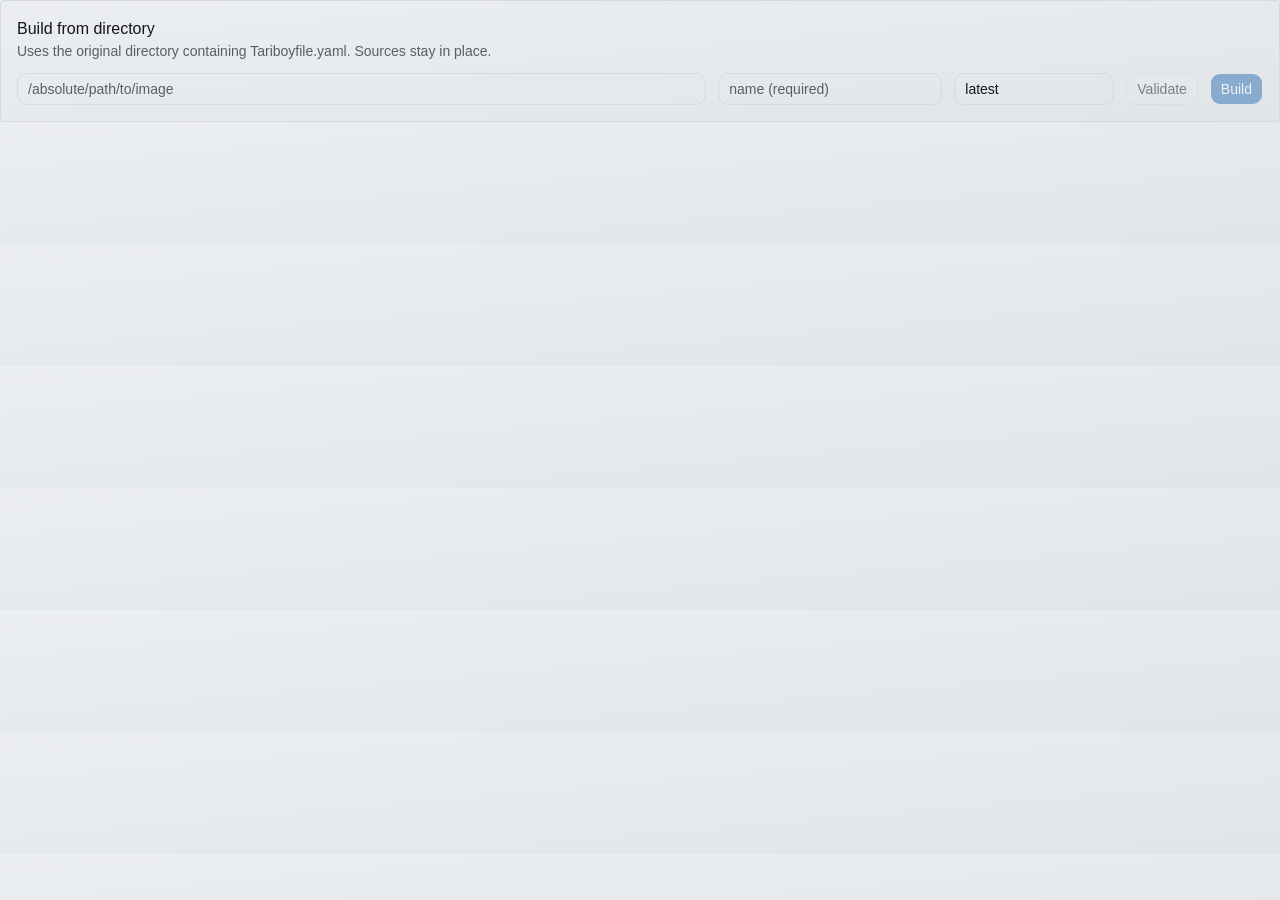
Test: dismisses validation diagnostics and the resolved template
Type "/srv/images/reviewer" into the field named "Image source directory".
click(362, 89); type("/srv/images/reviewer")  # box left=17, top=73, right=706, bottom=105
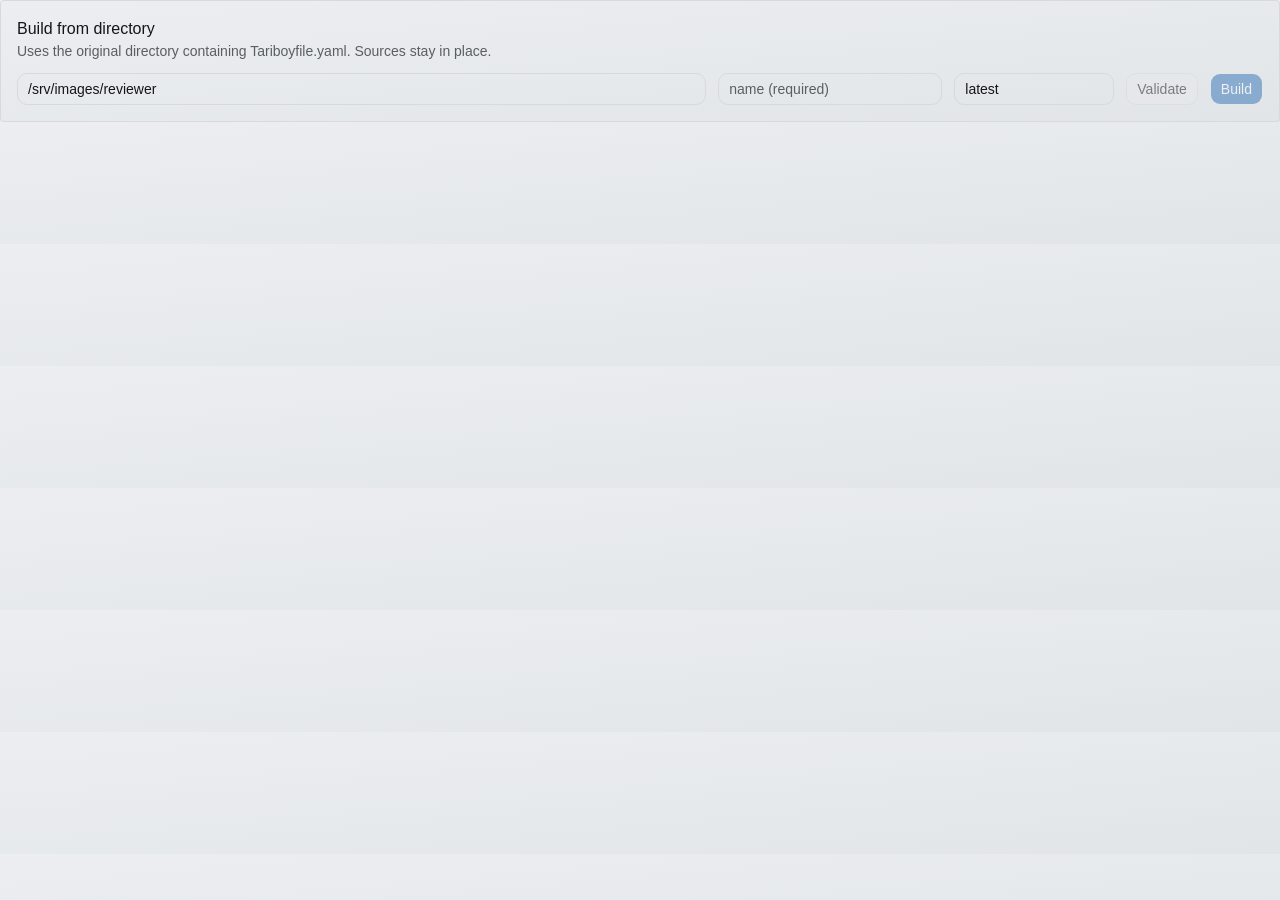
Type "reviewer" into the field named "Image name".
click(830, 89); type("reviewer")  # box left=718, top=73, right=942, bottom=105
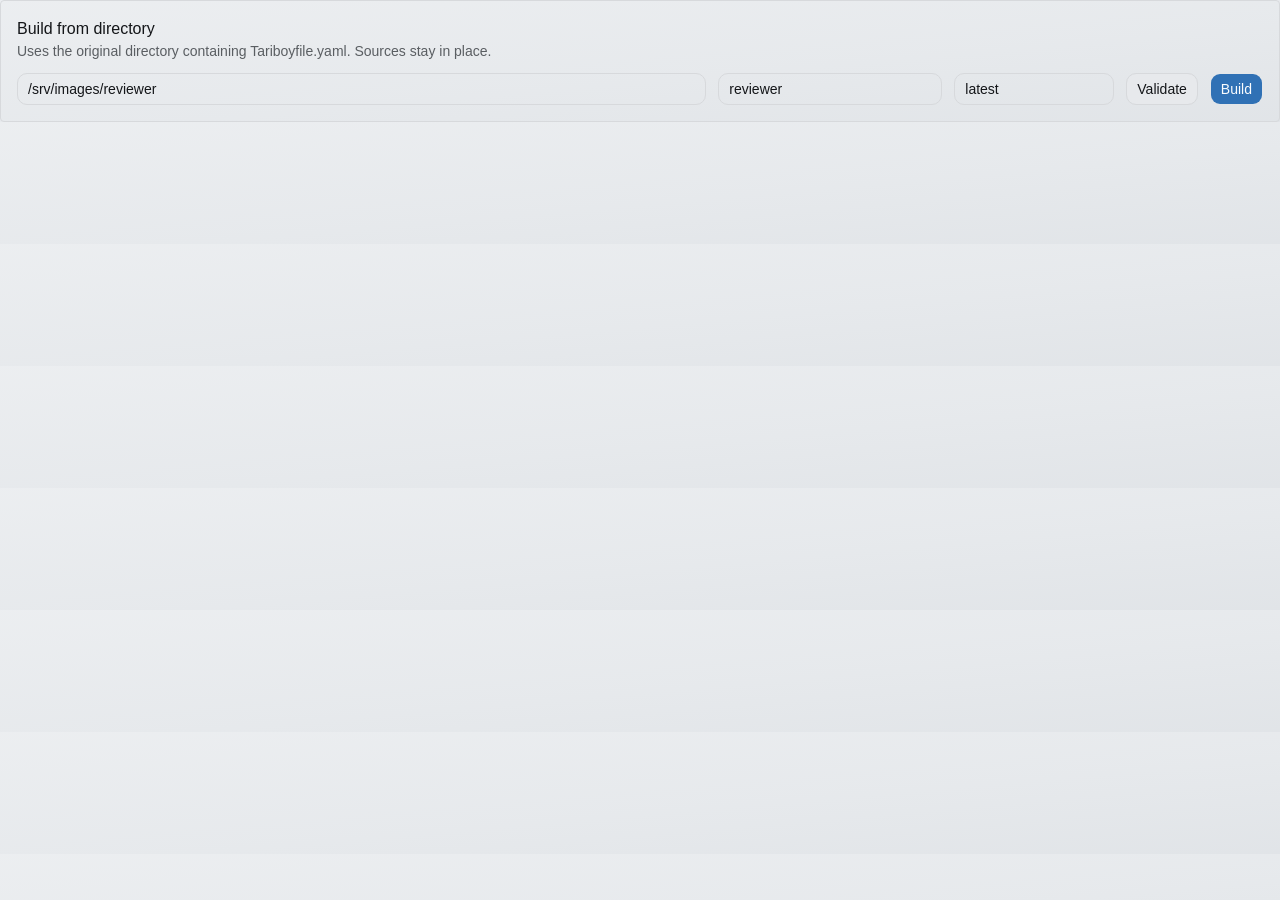
Click the button "Validate".
click(1162, 89)  # box left=1126, top=73, right=1198, bottom=105
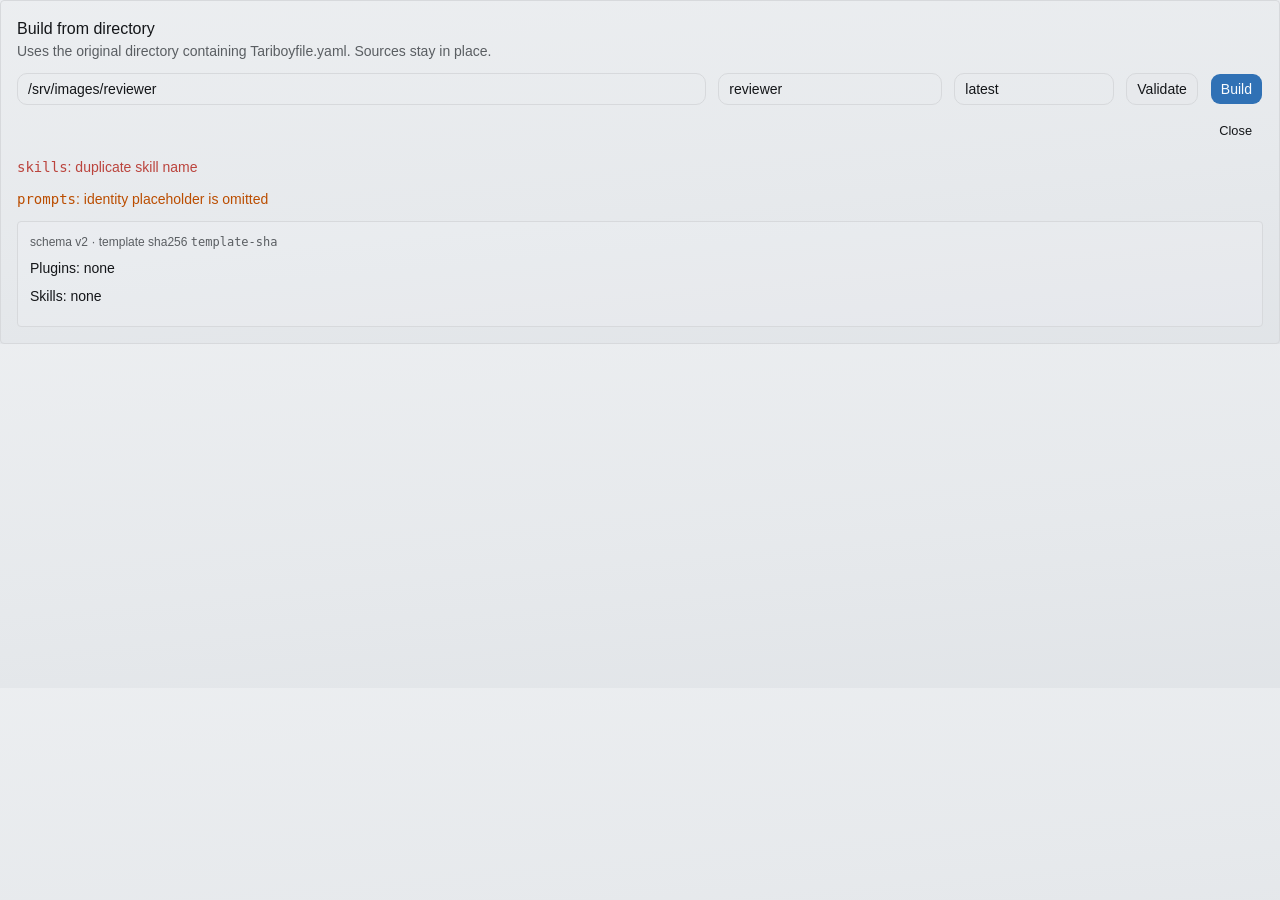
Expected: the text "skills: duplicate skill name" is shown, left=17, top=159, right=198, bottom=175
Expected: the element named "Validated image template" is shown, left=17, top=221, right=1263, bottom=327
Click the button "Close".
click(1236, 131)  # box left=1208, top=117, right=1263, bottom=145
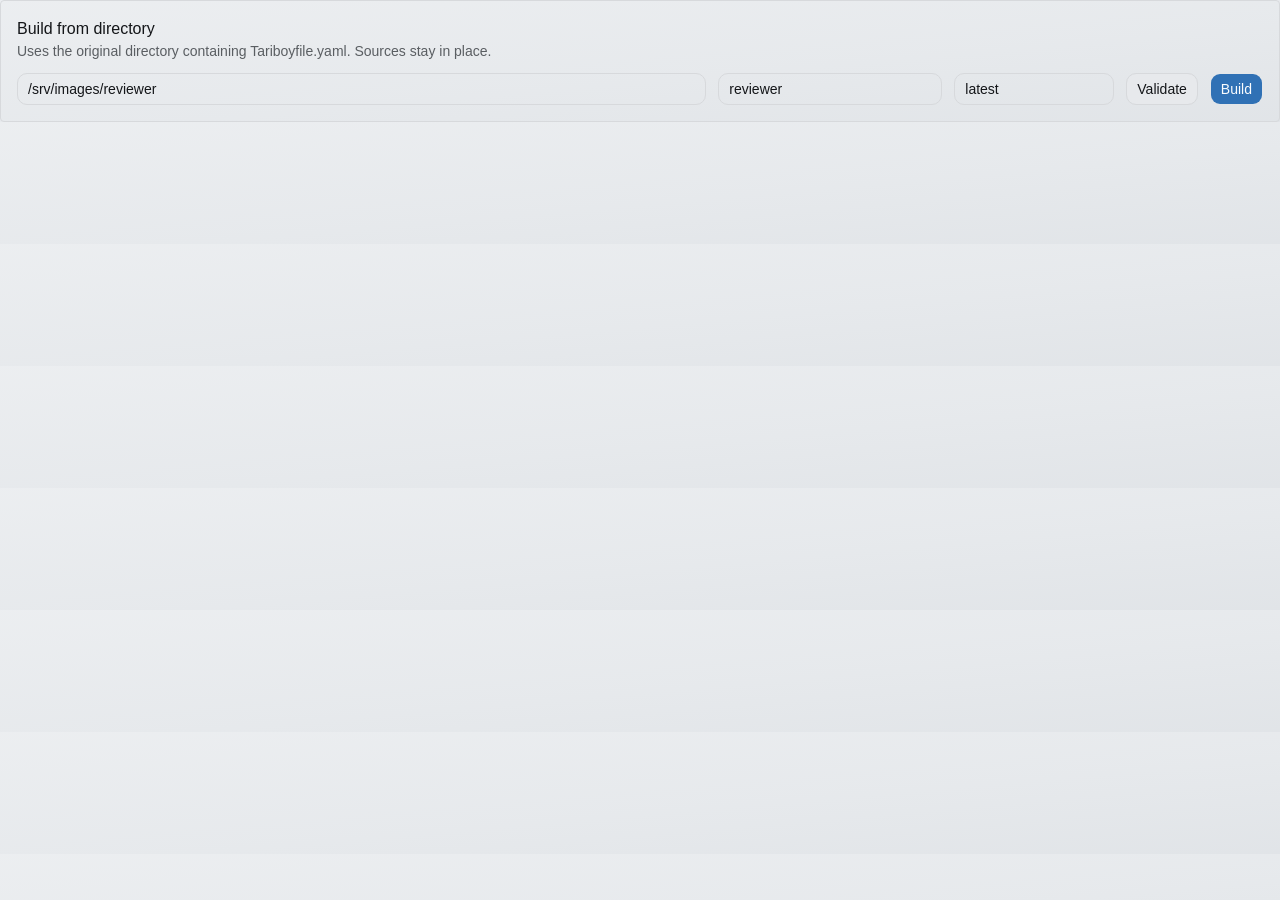
Expected: the text "duplicate skill name" is gone
Expected: the text "identity placeholder is omitted" is gone
